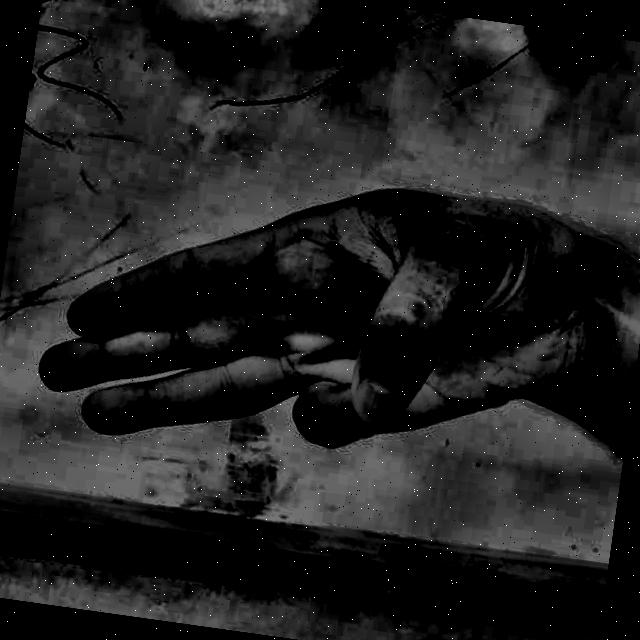Ma: (18, 125, 638, 517)
